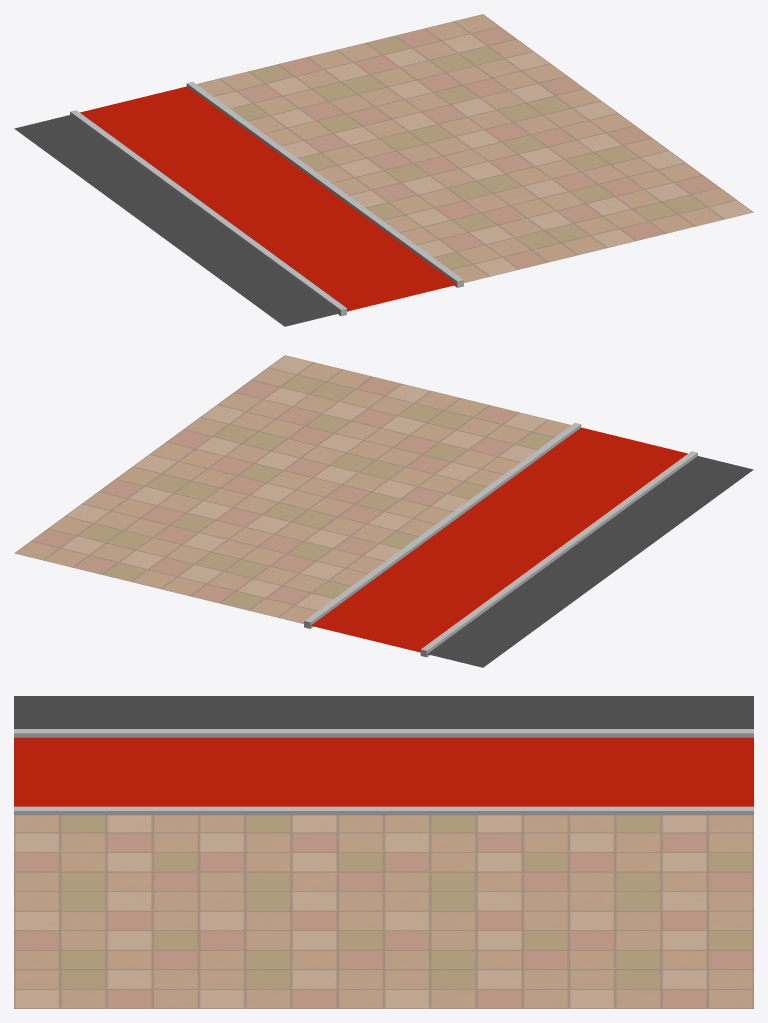
Rendered from Set_C_Tiles_05.fbx.
The picture shows the model from 3 angles, top to bottom: view 1: azimuth 30°, elevation 25°; view 2: azimuth 150°, elevation 25°; view 3: azimuth 270°, elevation 25°; orthographic projection. The views are drawn at different scales.
Visible parts, largest first — view 1: Set_C_Tiles_05; view 2: Set_C_Tiles_05; view 3: Set_C_Tiles_05.
Part boxes in pixels (x1,y1,x2,y2): Set_C_Tiles_05: [14, 14, 753, 326]; Set_C_Tiles_05: [14, 355, 753, 667]; Set_C_Tiles_05: [14, 696, 753, 1008].
Bounding box in the file's own units: 1500 × 1500 × 20.
